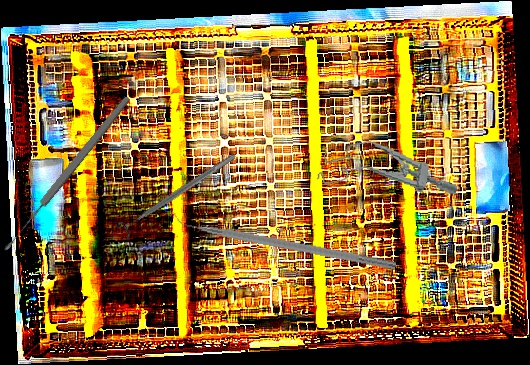Chopper: (166, 204, 399, 271)
Fixation Ring: (114, 146, 241, 243)
Speculum: (315, 133, 463, 206)
Surgical Spoon: (0, 93, 133, 254)
